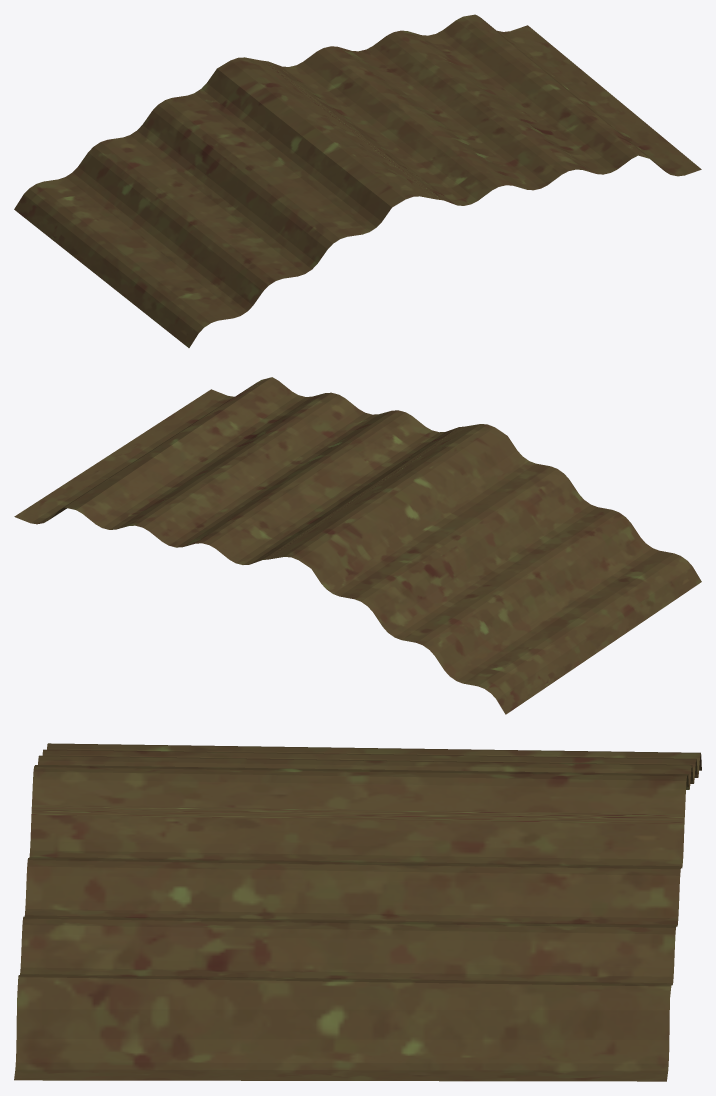
File: metal scrap2.fbx
The picture shows the model from 3 angles, top to bottom: view 1: azimuth 30°, elevation 25°; view 2: azimuth 150°, elevation 25°; view 3: azimuth 270°, elevation 25°; orthographic projection. The views are drawn at different scales.
Parts seen in each view (by area): view 1: Plane.015; view 2: Plane.015; view 3: Plane.015.
Boxes of the visible parts, x1=… form: Plane.015: x1=14, y1=14, x2=701, y2=347; Plane.015: x1=14, y1=377, x2=701, y2=714; Plane.015: x1=14, y1=743, x2=701, y2=1081.
Bounding box in the file's own units: 321 × 60.33 × 212.
